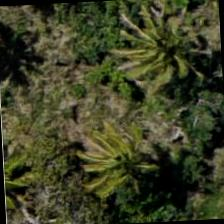Kelapa_Sawit: (48, 116, 143, 211), (116, 3, 211, 98)
